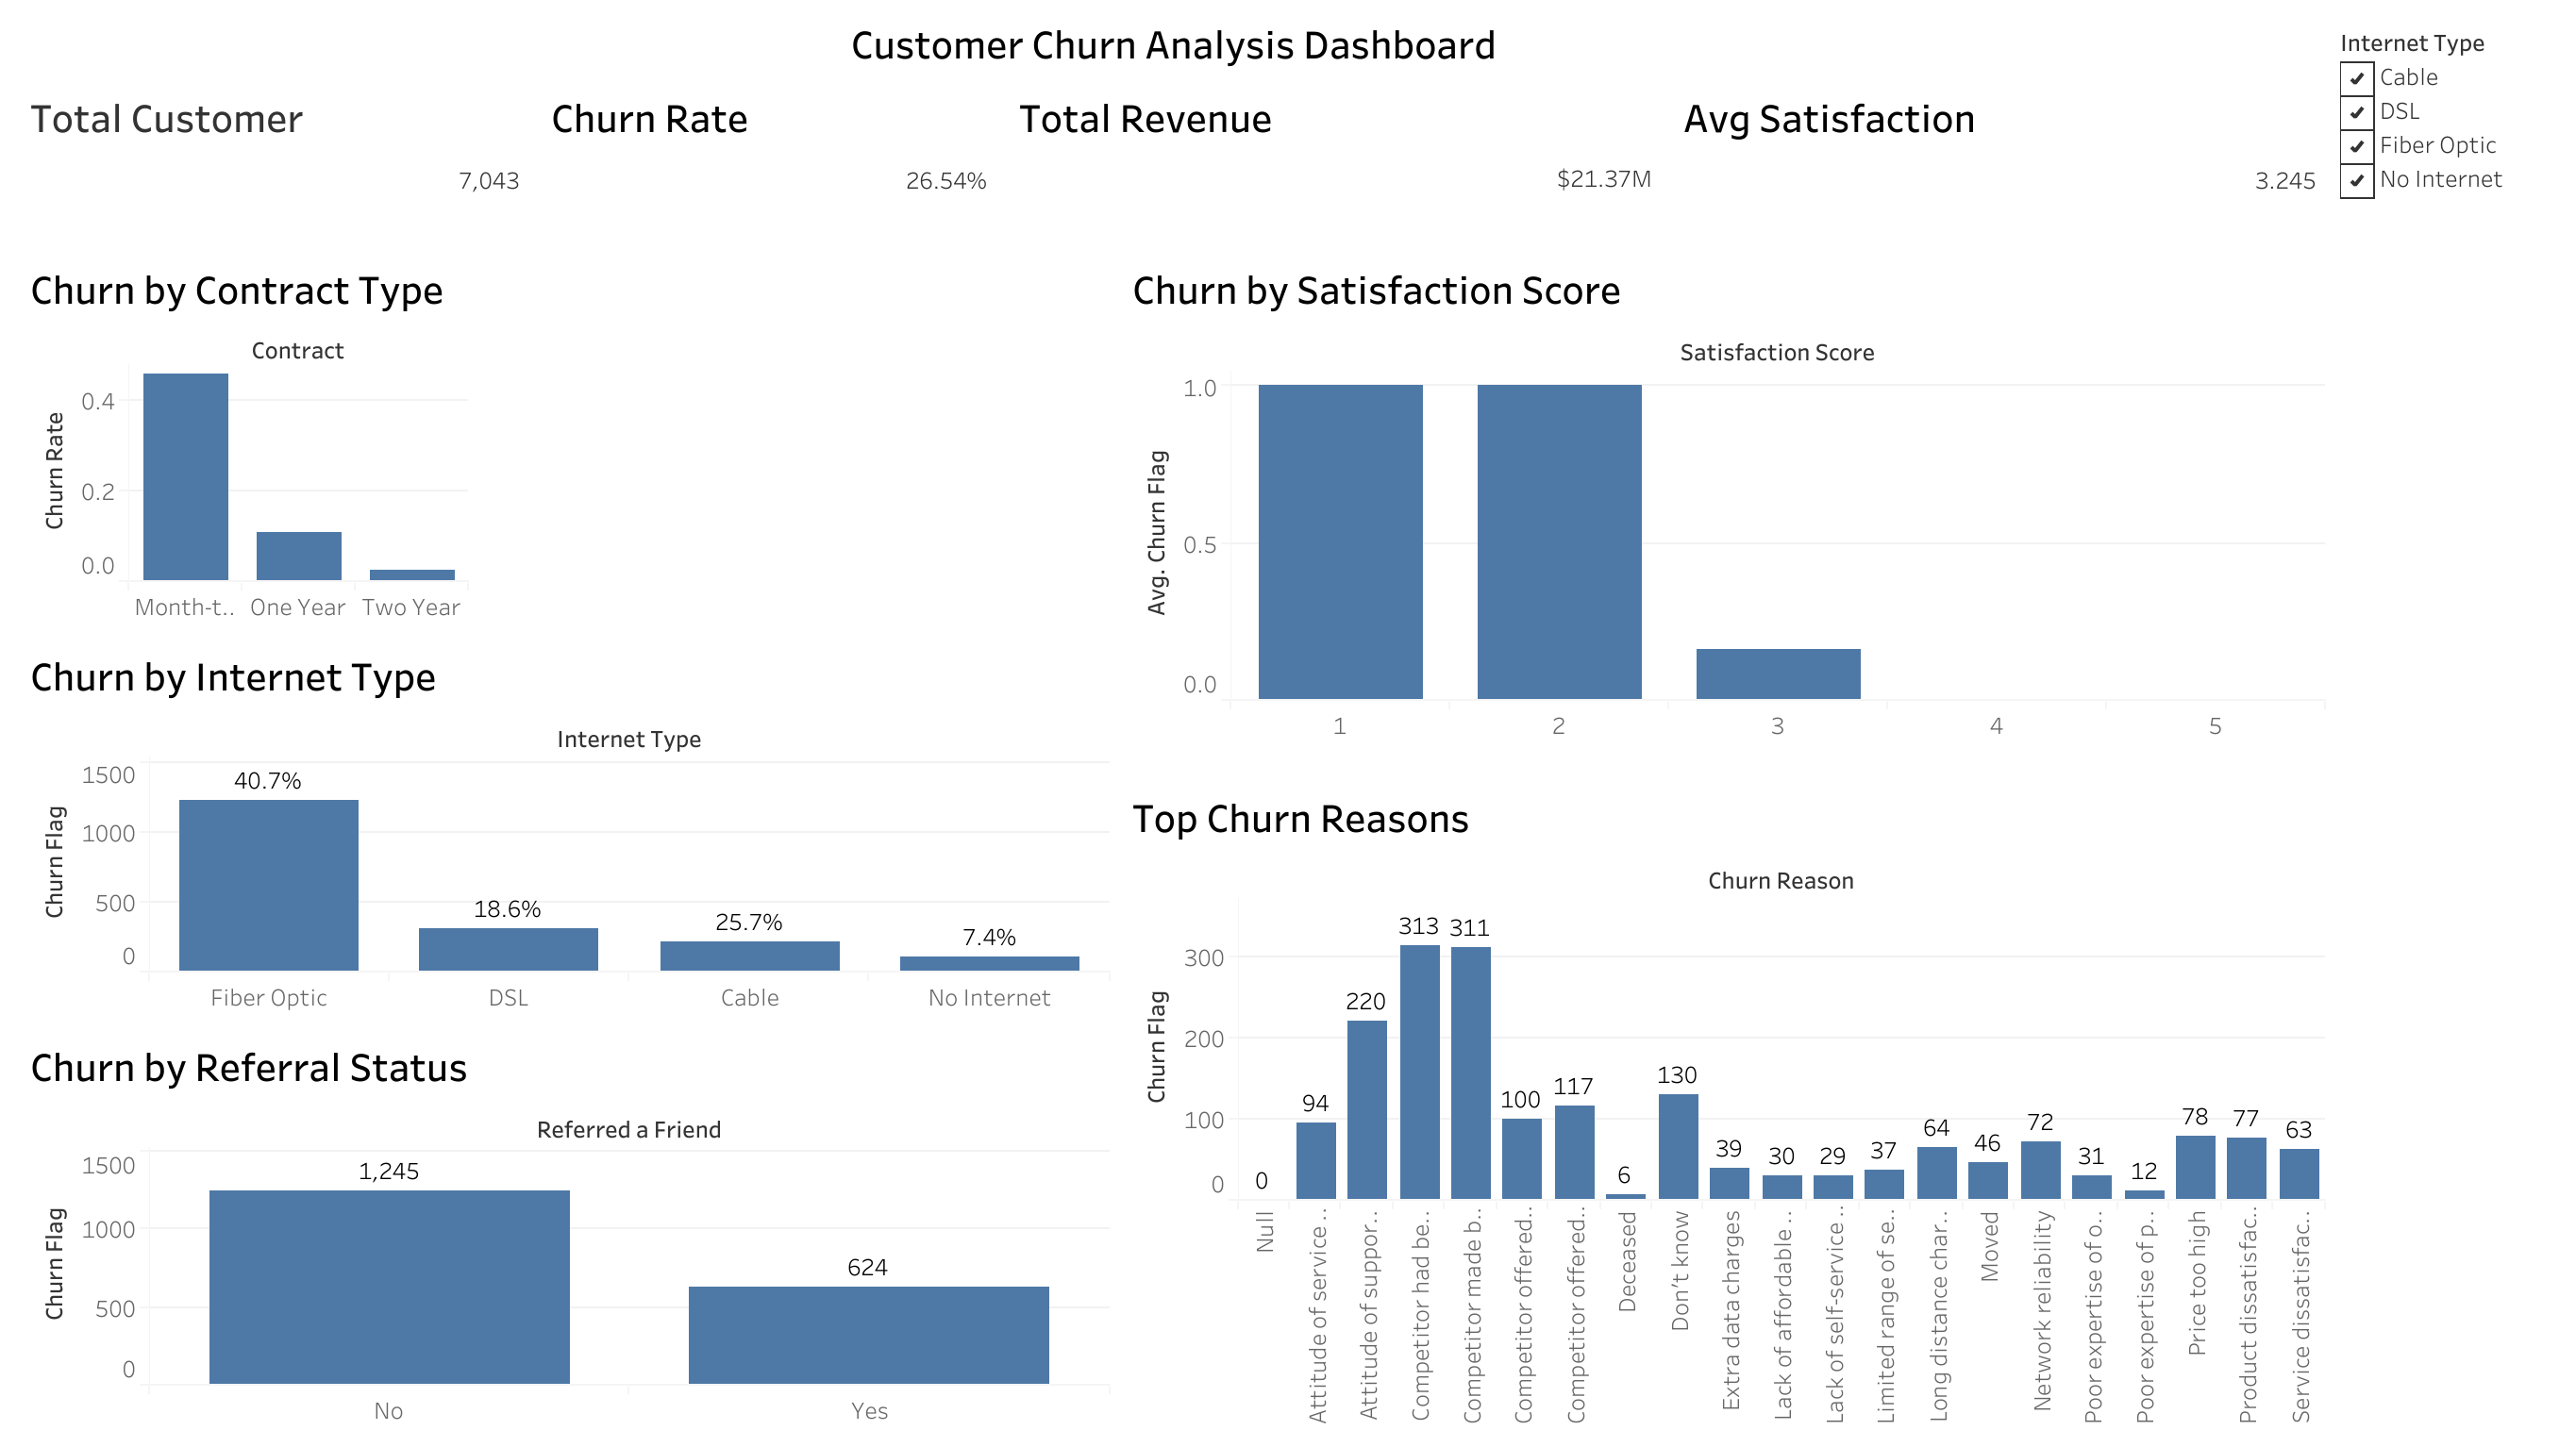

The page's visual inventory and layout, read from the dashboard file:
{"tool":"tableau","page":{"name":"Dashboard 1","canvas":[1366,768],"ordinal":0},"visuals":[{"type":"text","box":[8,8,1228,30]},{"type":"filter","title":"Churn  by Internt Type","param":"[federated.0zoxgps17m42l81fr0x160qbqay0].[none:Internet Type:nk]","box":[1236,8,122,127]},{"type":"worksheet","title":"KPI-Total Customers","mark":"Automatic","box":[8,38,276.4,91.3]},{"type":"worksheet","title":"KPI-Churn Rate","mark":"Automatic","box":[284.4,38,247.8,91.3]},{"type":"worksheet","title":"KPI-Total Revenue","mark":"Automatic","box":[532.3,38,351.6,91.3]},{"type":"worksheet","title":"KPI-Avg Satisfaction ","mark":"Automatic","box":[883.9,38,352.1,91.3]},{"type":"worksheet","title":"Churn by Contract Type","mark":"Automatic","rows":["Calculation_4361291929780225"],"cols":["Contract"],"box":[8,129.3,584.3,204.6]},{"type":"worksheet","title":"Churn By Satisfaction Score","mark":"Bar","rows":["Calculation_4361291929423872"],"cols":["Satisfaction Score"],"box":[592.4,129.3,643.6,280]},{"type":"worksheet","title":"Churn  by Internt Type","mark":"Automatic","rows":["Calculation_4361291929423872"],"cols":["Internet Type"],"box":[8,333.9,584.3,207.3]},{"type":"worksheet","title":"Top Churn Reasons","mark":"Automatic","rows":["Calculation_4361291929423872"],"cols":["Churn Reason"],"box":[592.4,409.3,643.6,350.7]},{"type":"worksheet","title":"Churn by Referral Status","mark":"Automatic","rows":["Calculation_4361291929423872"],"cols":["Referred a Friend"],"box":[8,541.2,584.3,218.8]}]}

Visuals, with their boxes in screenshot pixels (x1, y1, x2, y2), scaled from the page's 1366x768 canvas onto the 2576x1447 screenshot:
text: bbox(15, 15, 2331, 72)
"Churn  by Internt Type" filter: bbox(2331, 15, 2561, 255)
"KPI-Total Customers" worksheet: bbox(15, 72, 536, 243)
"KPI-Churn Rate" worksheet: bbox(536, 72, 1004, 243)
"KPI-Total Revenue" worksheet: bbox(1004, 72, 1667, 243)
"KPI-Avg Satisfaction " worksheet: bbox(1667, 72, 2331, 243)
"Churn by Contract Type" worksheet: bbox(15, 243, 1117, 629)
"Churn By Satisfaction Score" worksheet (Bar marks): bbox(1117, 243, 2331, 772)
"Churn  by Internt Type" worksheet: bbox(15, 629, 1117, 1020)
"Top Churn Reasons" worksheet: bbox(1117, 772, 2331, 1432)
"Churn by Referral Status" worksheet: bbox(15, 1020, 1117, 1432)
